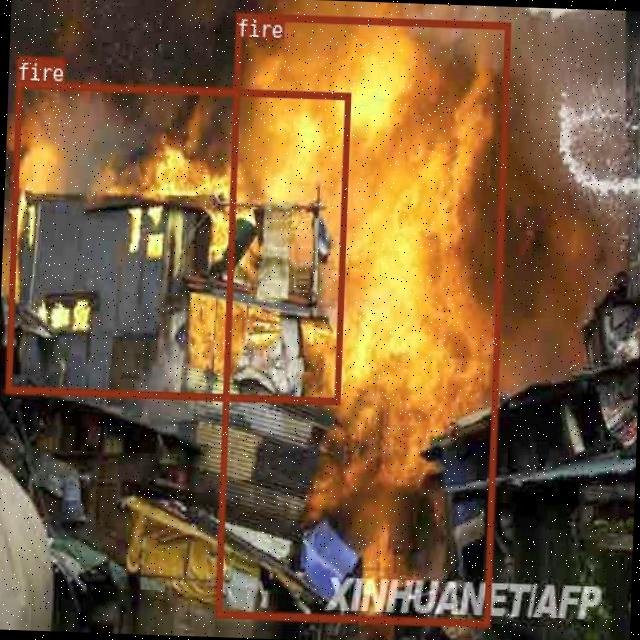fire: (215, 12, 510, 625), (4, 80, 349, 403)
